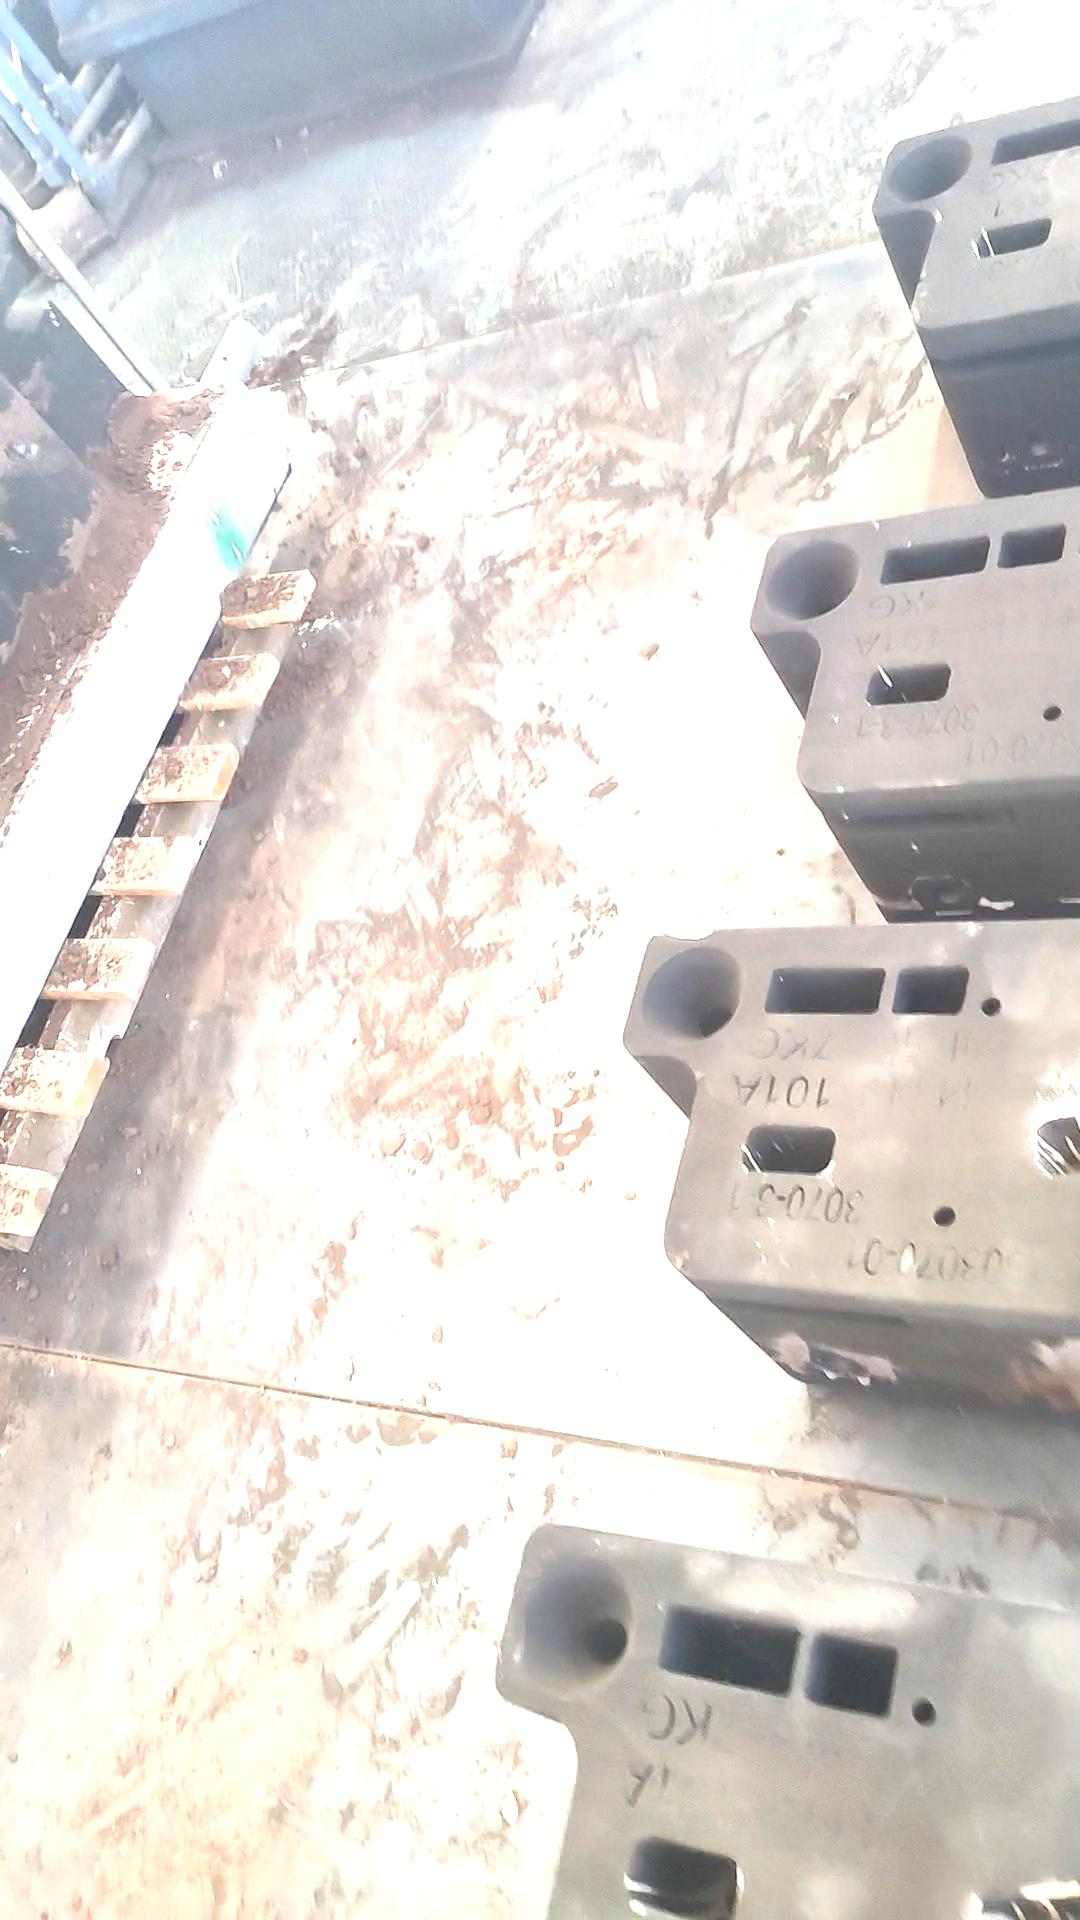pouring hole: (517, 1557, 632, 1696), (640, 945, 742, 1040), (765, 539, 858, 618), (884, 133, 971, 202)
